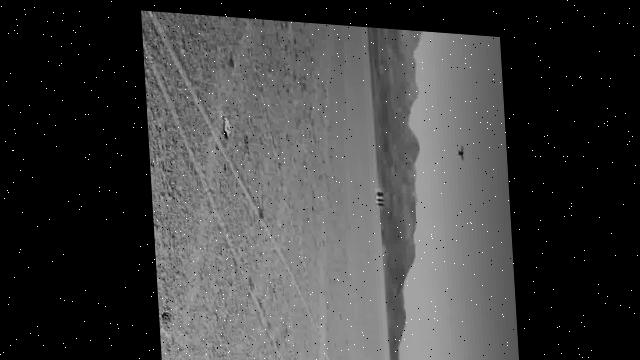drone: (452, 137, 465, 156)
